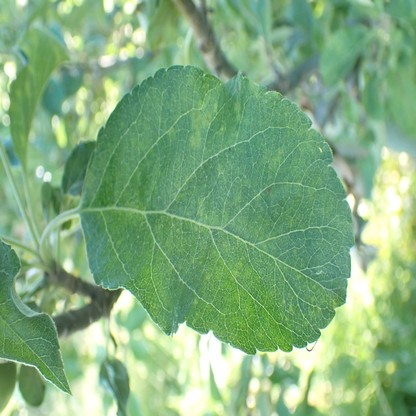scab: (83, 79, 337, 326)
